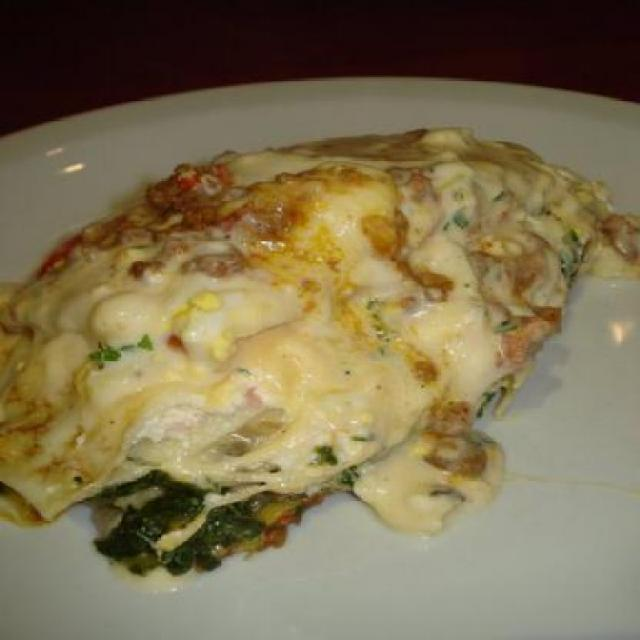Lasagna: (29, 116, 588, 554)
